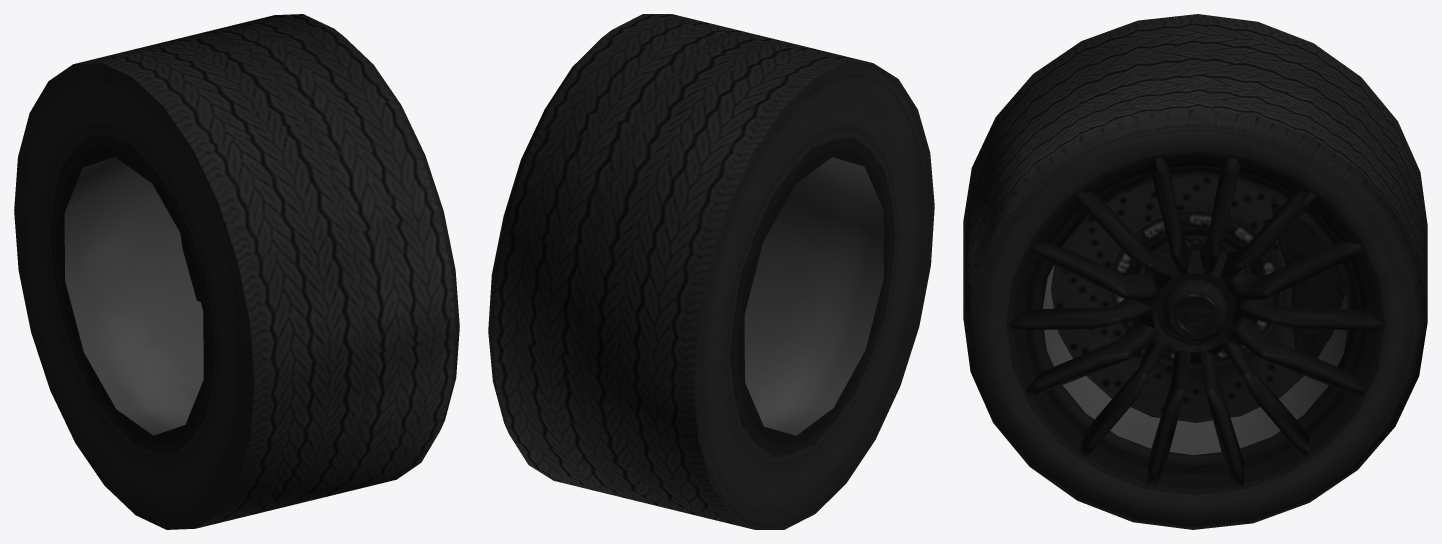
Rendered from WP30_wheelpack.glb.
3 views of the same model, side by side, from view 1: azimuth 30°, elevation 25°; view 2: azimuth 150°, elevation 25°; view 3: azimuth 270°, elevation 25° (orthographic). The views are drawn at different scales.
Visible parts, largest first — view 1: MOD_ND_WP30_tyre, MOD_ND_WP30_rim; view 2: MOD_ND_WP30_tyre, MOD_ND_WP30_rim; view 3: MOD_ND_WP30_tyre, MOD_ND_WP30_rim, MOD_ND_WP30_brakes.
Part boxes in pixels (left/top/right/bottom): MOD_ND_WP30_tyre: left=14, top=14, right=459, bottom=529; MOD_ND_WP30_rim: left=64, top=157, right=203, bottom=435; MOD_ND_WP30_tyre: left=488, top=14, right=934, bottom=529; MOD_ND_WP30_rim: left=744, top=157, right=883, bottom=435; MOD_ND_WP30_tyre: left=963, top=14, right=1427, bottom=529; MOD_ND_WP30_rim: left=1010, top=158, right=1381, bottom=486; MOD_ND_WP30_brakes: left=1051, top=176, right=1345, bottom=422.
Bounding box in the file's own units: 0.3249 × 0.6414 × 0.6414.
Materials: 2 (2 with a texture image).
